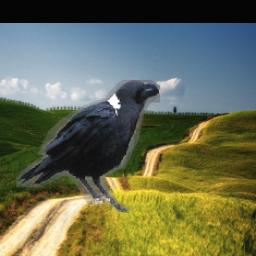Crow: (16, 81, 160, 214)
